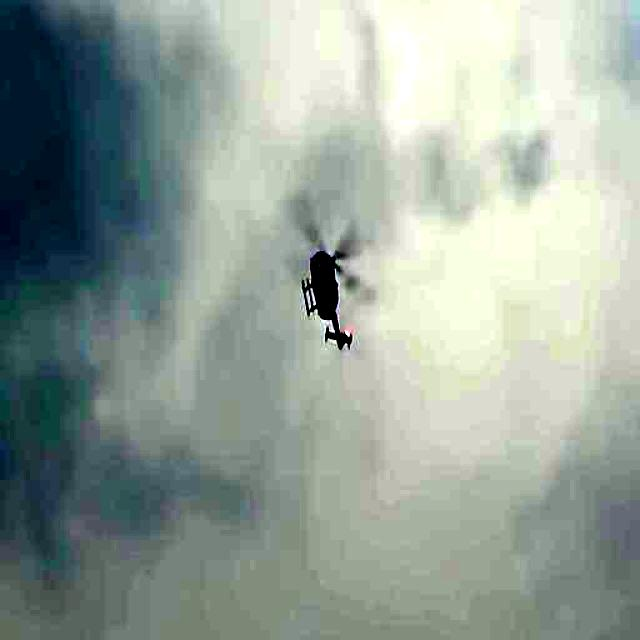drone: (284, 202, 380, 371)
